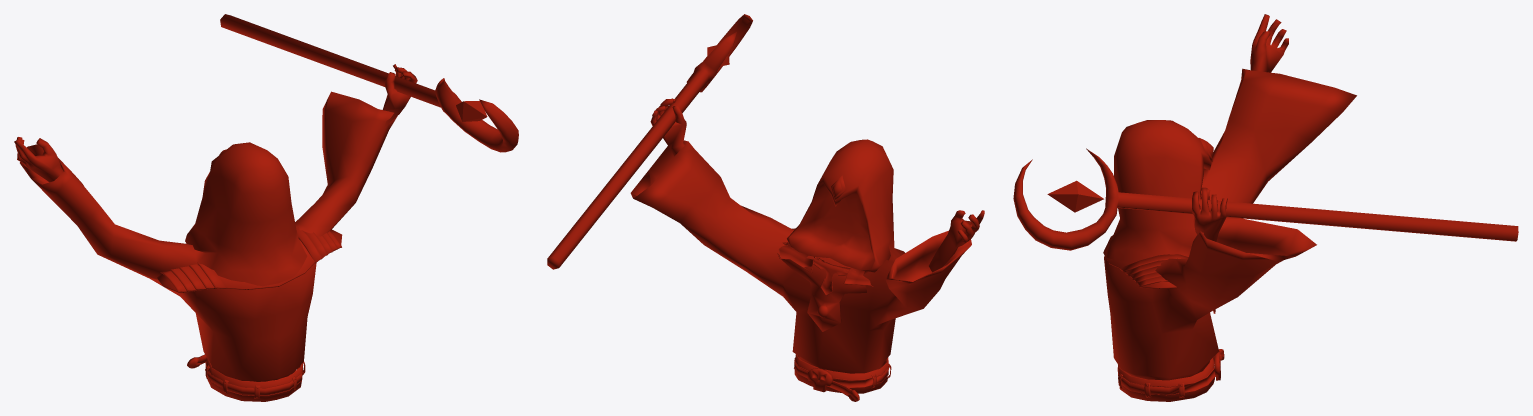
The model's file is top_000037.obj.
The picture shows the model from 3 angles, left to right: view 1: azimuth 30°, elevation 25°; view 2: azimuth 150°, elevation 25°; view 3: azimuth 270°, elevation 25°; orthographic projection. The views are drawn at different scales.
Visible parts, largest first — view 1: LowPoly_Warlock.000_Plane.005; view 2: LowPoly_Warlock.000_Plane.005; view 3: LowPoly_Warlock.000_Plane.005.
Boxes of the visible parts, bbox=[...] form: LowPoly_Warlock.000_Plane.005: bbox=[14, 14, 518, 401]; LowPoly_Warlock.000_Plane.005: bbox=[547, 14, 984, 401]; LowPoly_Warlock.000_Plane.005: bbox=[1013, 14, 1518, 401].
Bounding box in the file's own units: 1.82 × 1.29 × 1.88.
